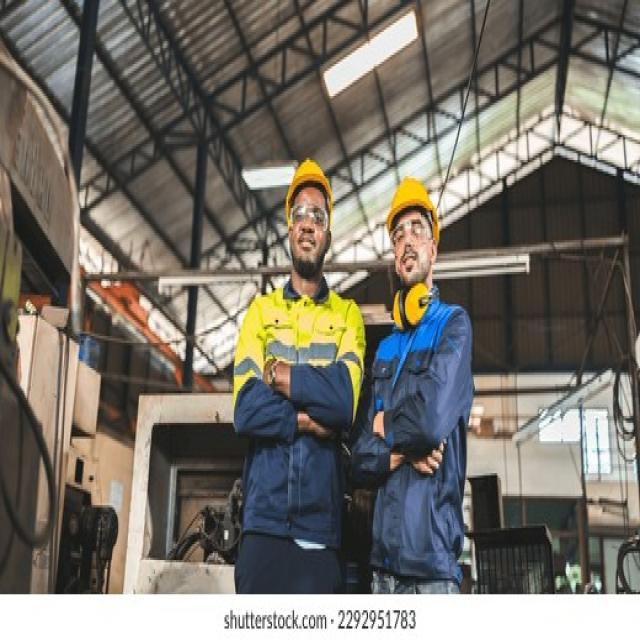goggles: (288, 201, 334, 235), (388, 219, 435, 250)
helmet: (385, 175, 441, 240), (283, 158, 334, 228)
vest: (232, 279, 365, 551), (370, 321, 472, 556)
